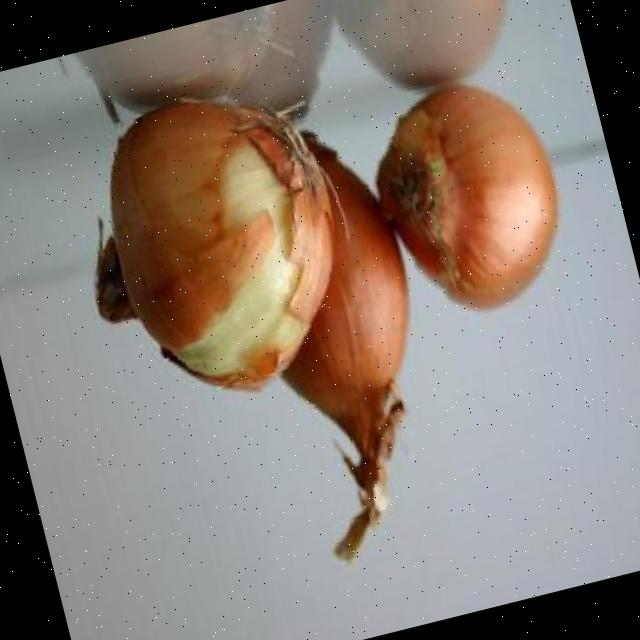Onion: (95, 100, 331, 389), (279, 132, 406, 561), (375, 85, 557, 309)
